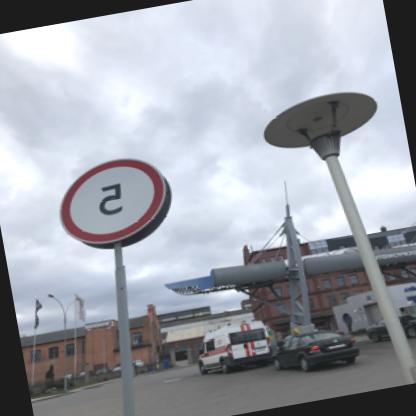speedlimit: (50, 149, 176, 249)
